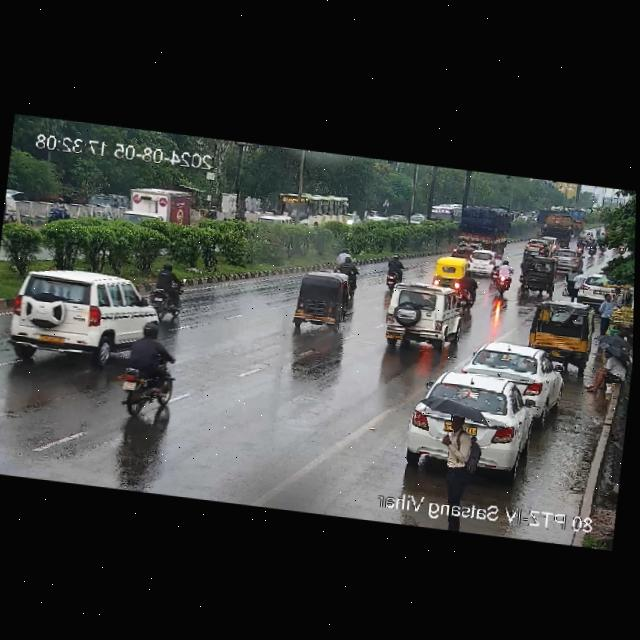bus: (273, 187, 352, 232), (429, 198, 463, 225)
car: (0, 258, 161, 378), (410, 369, 540, 454), (464, 338, 564, 406), (285, 269, 353, 336), (523, 298, 595, 361), (564, 271, 626, 306), (517, 256, 560, 299), (427, 256, 467, 291), (466, 249, 497, 278), (548, 247, 585, 270), (450, 238, 481, 260), (523, 239, 549, 258)
motorcycle: (112, 323, 181, 414), (139, 264, 190, 321), (382, 252, 410, 292), (490, 258, 514, 293), (333, 247, 359, 276), (463, 271, 479, 305), (50, 193, 67, 222), (491, 253, 502, 281), (517, 257, 526, 284), (588, 237, 599, 257), (539, 242, 549, 256), (584, 232, 591, 247), (576, 239, 583, 252), (599, 233, 604, 241)
person: (434, 404, 486, 516), (593, 341, 633, 396), (592, 291, 619, 334), (571, 270, 583, 296), (612, 288, 623, 301)
truck: (378, 279, 466, 355), (119, 182, 199, 234), (455, 201, 511, 248), (538, 208, 575, 240)
